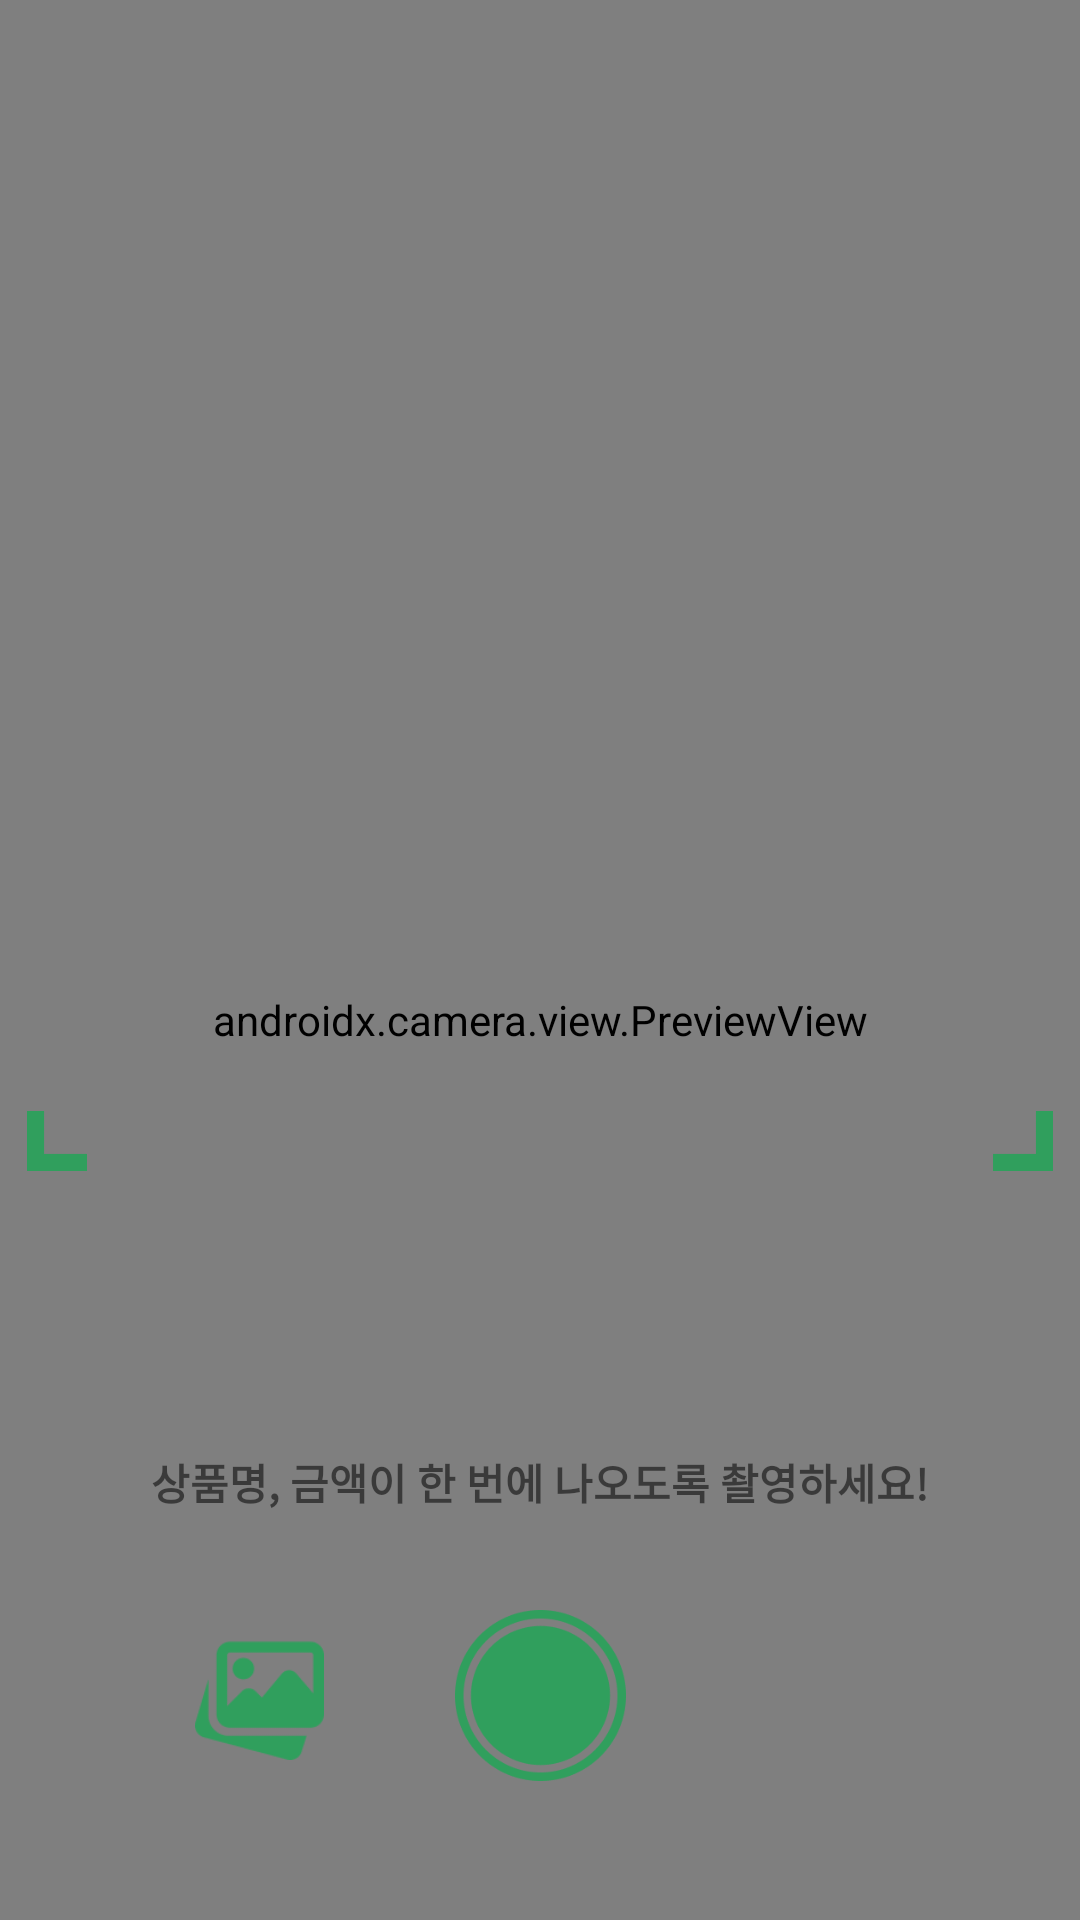

Locate icon controls on the screen. Image size 1080px×1920px, boxes as [x1=x1, y1=y1, x2=x2, y2=y2].
camera activity: [x1=455, y1=1610, x2=626, y2=1781]
camera activity gallery: [x1=195, y1=1641, x2=324, y2=1760]
